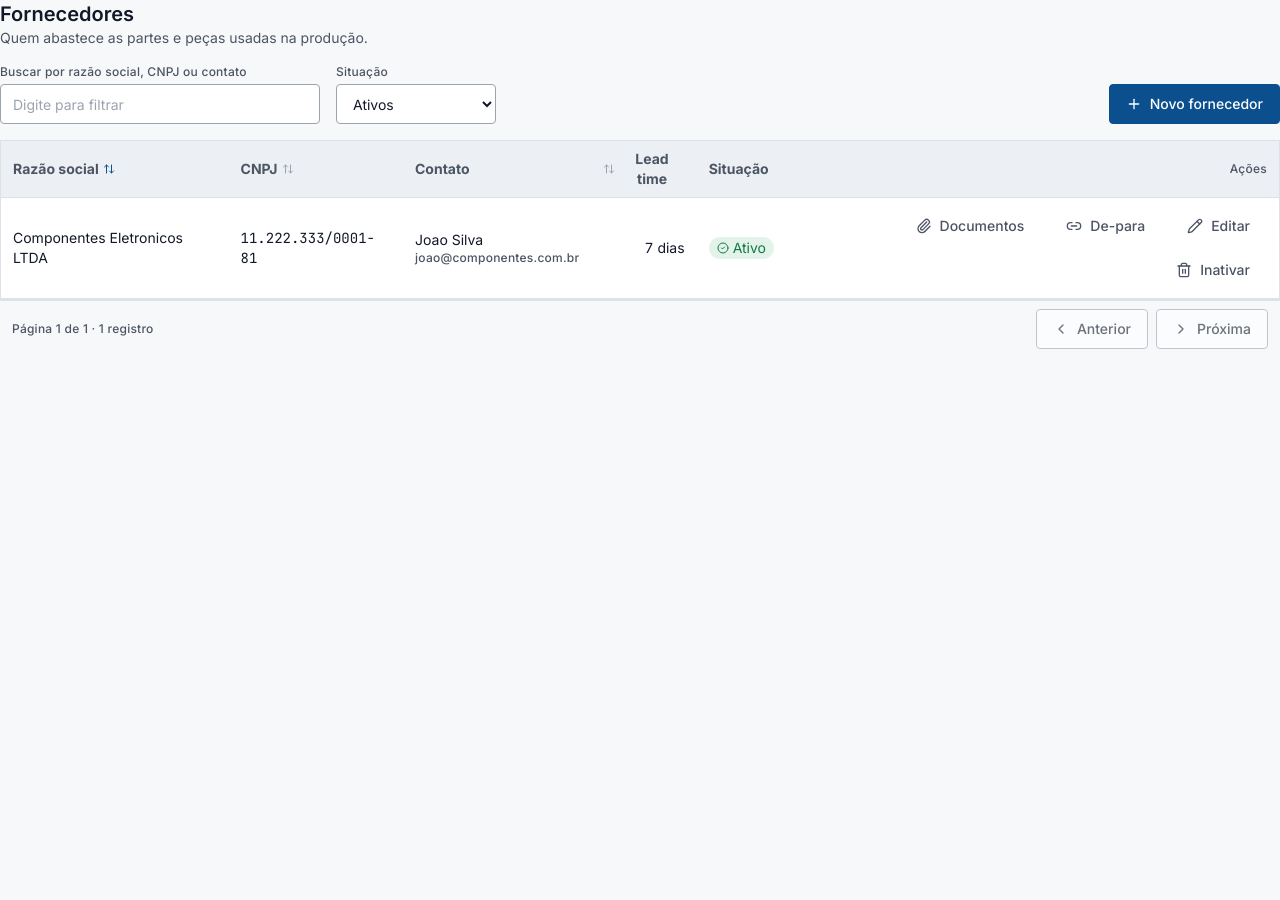
Fornecedores › editar abre o modal preenchido
Expected: the text "11.222.333/0001-81" is shown, [241,229,375,267]
Click the button with aria-label "Editar Componentes Eletronicos LTDA" at (1219, 226), box [1170,206,1267,246]
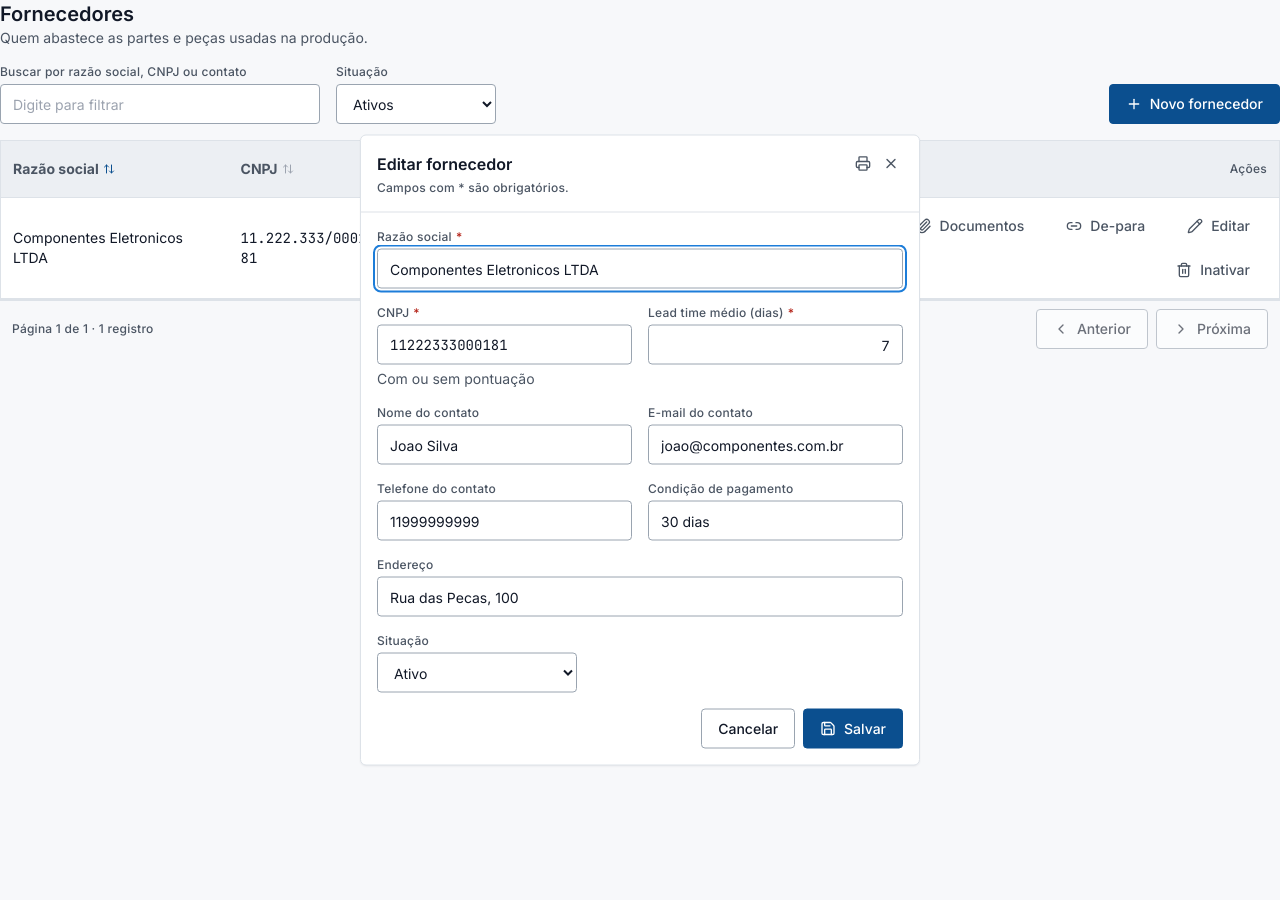
Result: the field labelled "Razão social*" holds "Componentes Eletronicos LTDA" at [377,248,903,288]
